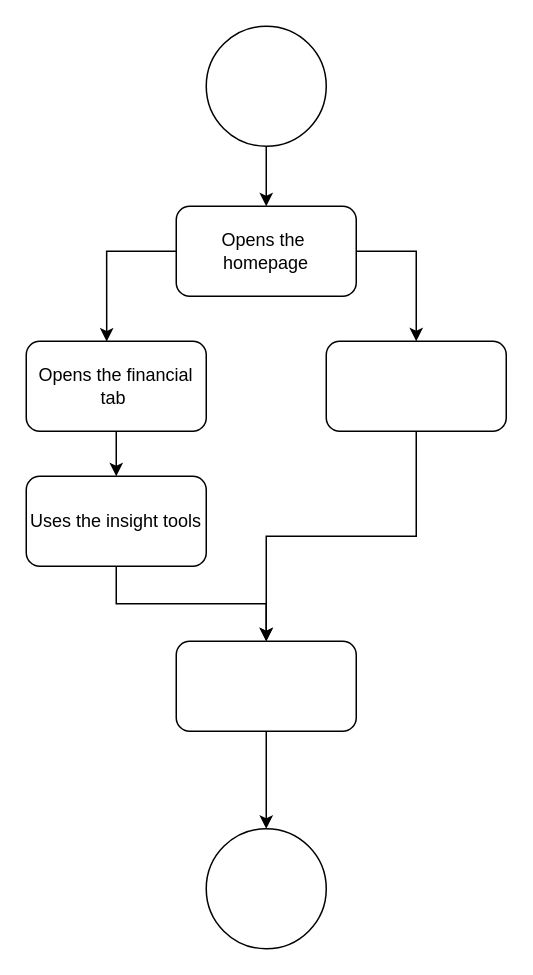
Image size: 533x975. Some labels were removed from this diagram. Each missing label, with the centre of its shape:
"Opens the user finance tab" belongs at (x=415, y=385).
"Updates" belongs at (x=265, y=685).
